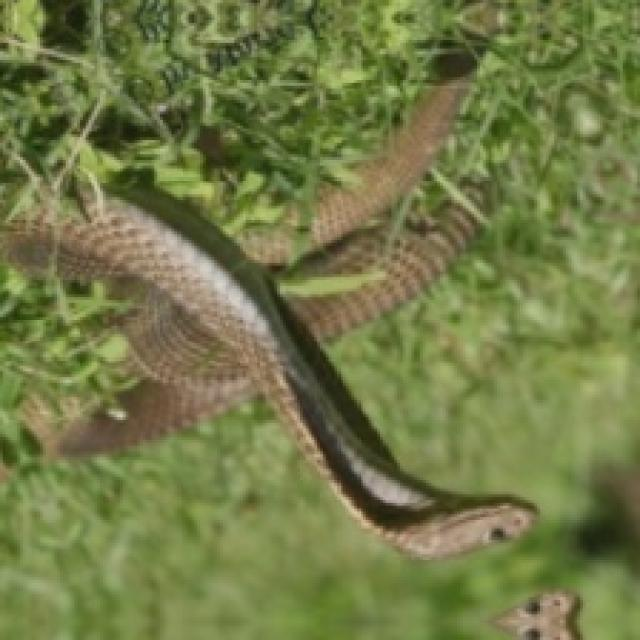philippine cobra: (3, 180, 534, 557), (300, 69, 469, 331)
